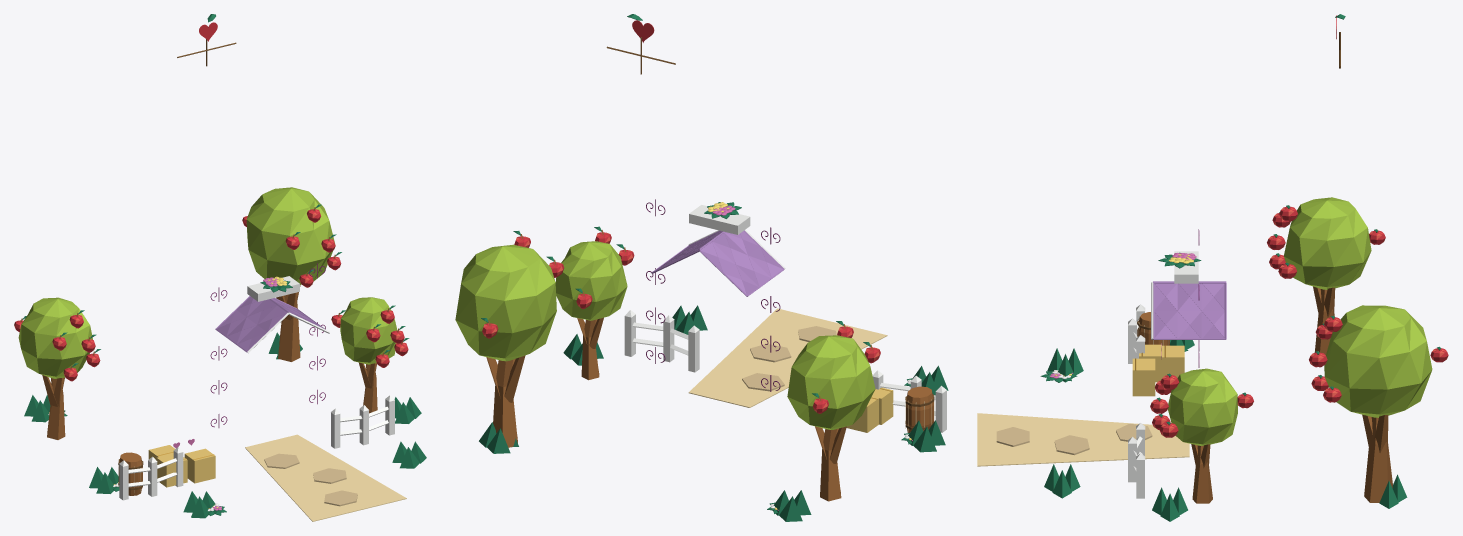
The model's file is decoration.glb.
The picture shows the model from 3 angles, left to right: view 1: azimuth 30°, elevation 25°; view 2: azimuth 150°, elevation 25°; view 3: azimuth 270°, elevation 25°; orthographic projection. The views are drawn at different scales.
Parts seen in each view (by area): view 1: 01_AppleTreesAndFlowerBoxes, 01_FencesHayAndWeatherVane, 01_ComparisonReview_DetailCorrections, 01_FoldedGroundAccents; view 2: 01_AppleTreesAndFlowerBoxes, 01_FencesHayAndWeatherVane, 01_ComparisonReview_DetailCorrections, 01_FoldedGroundAccents; view 3: 01_AppleTreesAndFlowerBoxes, 01_FencesHayAndWeatherVane, 01_ComparisonReview_DetailCorrections, 01_FoldedGroundAccents.
Part boxes in pixels (x1=…): 01_AppleTreesAndFlowerBoxes: x1=14, y1=187, x2=409, y2=439; 01_FencesHayAndWeatherVane: x1=118, y1=14, x2=406, y2=521; 01_ComparisonReview_DetailCorrections: x1=173, y1=263, x2=329, y2=448; 01_FoldedGroundAccents: x1=24, y1=332, x2=426, y2=518; 01_AppleTreesAndFlowerBoxes: x1=455, y1=202, x2=880, y2=501; 01_FencesHayAndWeatherVane: x1=606, y1=14, x2=946, y2=432; 01_ComparisonReview_DetailCorrections: x1=646, y1=199, x2=785, y2=391; 01_FoldedGroundAccents: x1=479, y1=305, x2=948, y2=521; 01_AppleTreesAndFlowerBoxes: x1=1150, y1=197, x2=1448, y2=503; 01_FencesHayAndWeatherVane: x1=977, y1=14, x2=1345, y2=498; 01_ComparisonReview_DetailCorrections: x1=1151, y1=229, x2=1226, y2=367; 01_FoldedGroundAccents: x1=1040, y1=340, x2=1407, y2=521.
Size of the model in its own units: 1.42 by 1.55 by 1.54.
